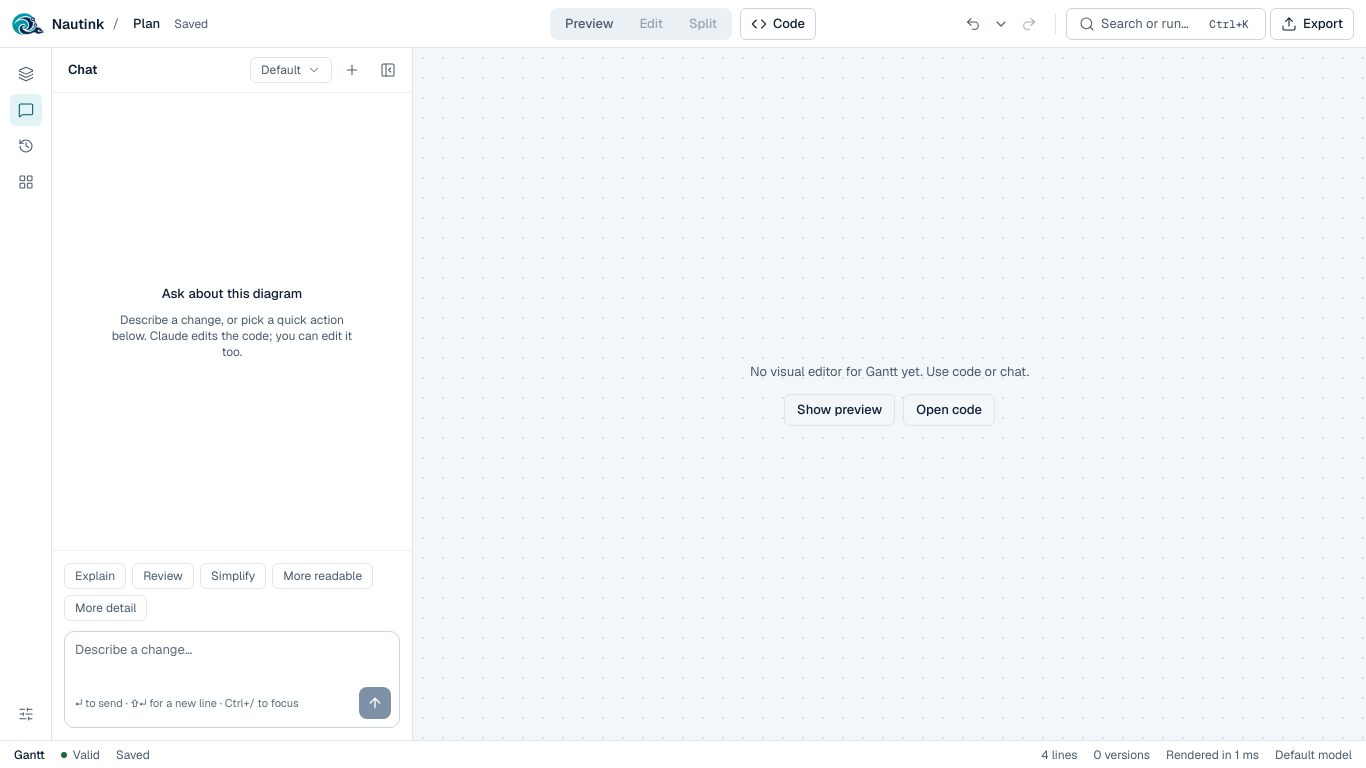
it: canvas views for a type without a visual editor › says so in Edit and offers the preview
Expected: the text "No visual editor for Gantt yet. Use code or chat." is shown, [750,362,1029,382]
Step 1. Click the button "Show preview" → click(840, 410), box [784,394,895,426]
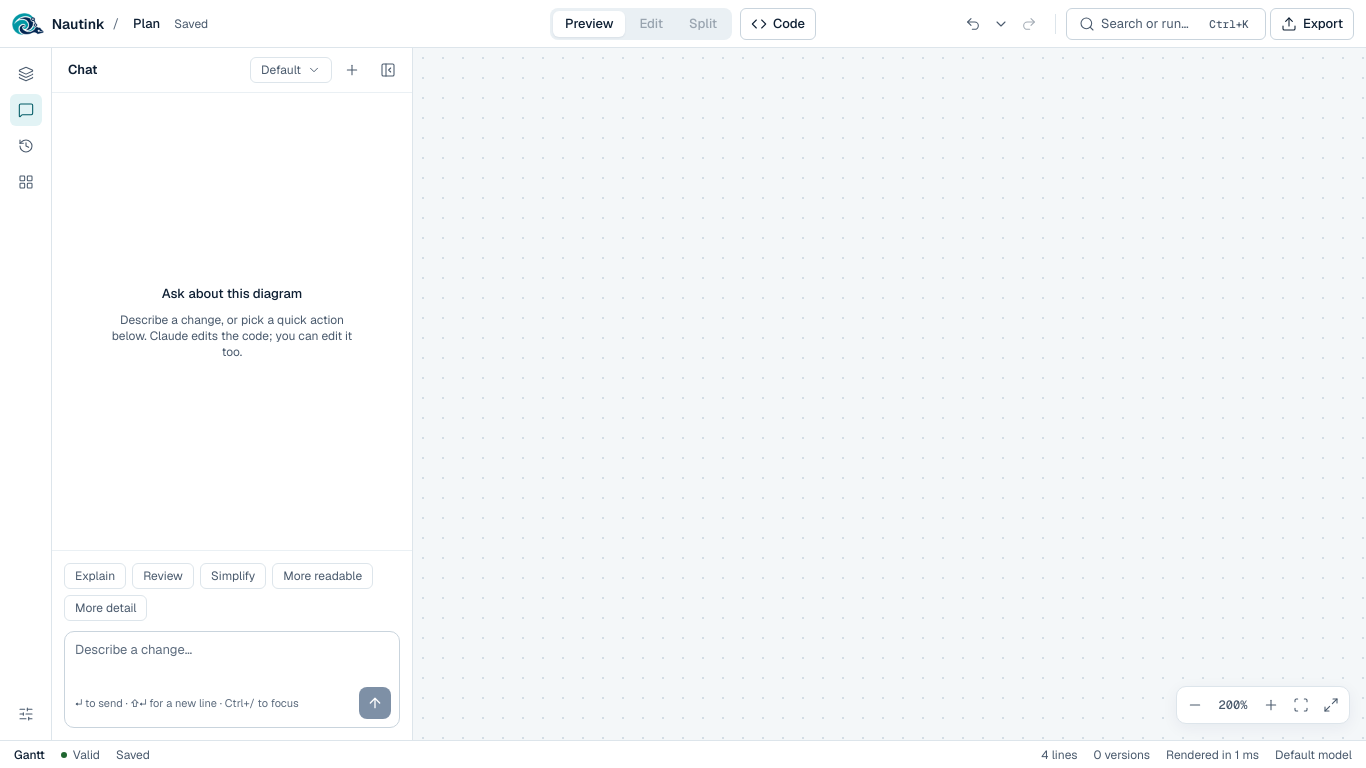
Expected: the element named "Diagram preview" is shown
